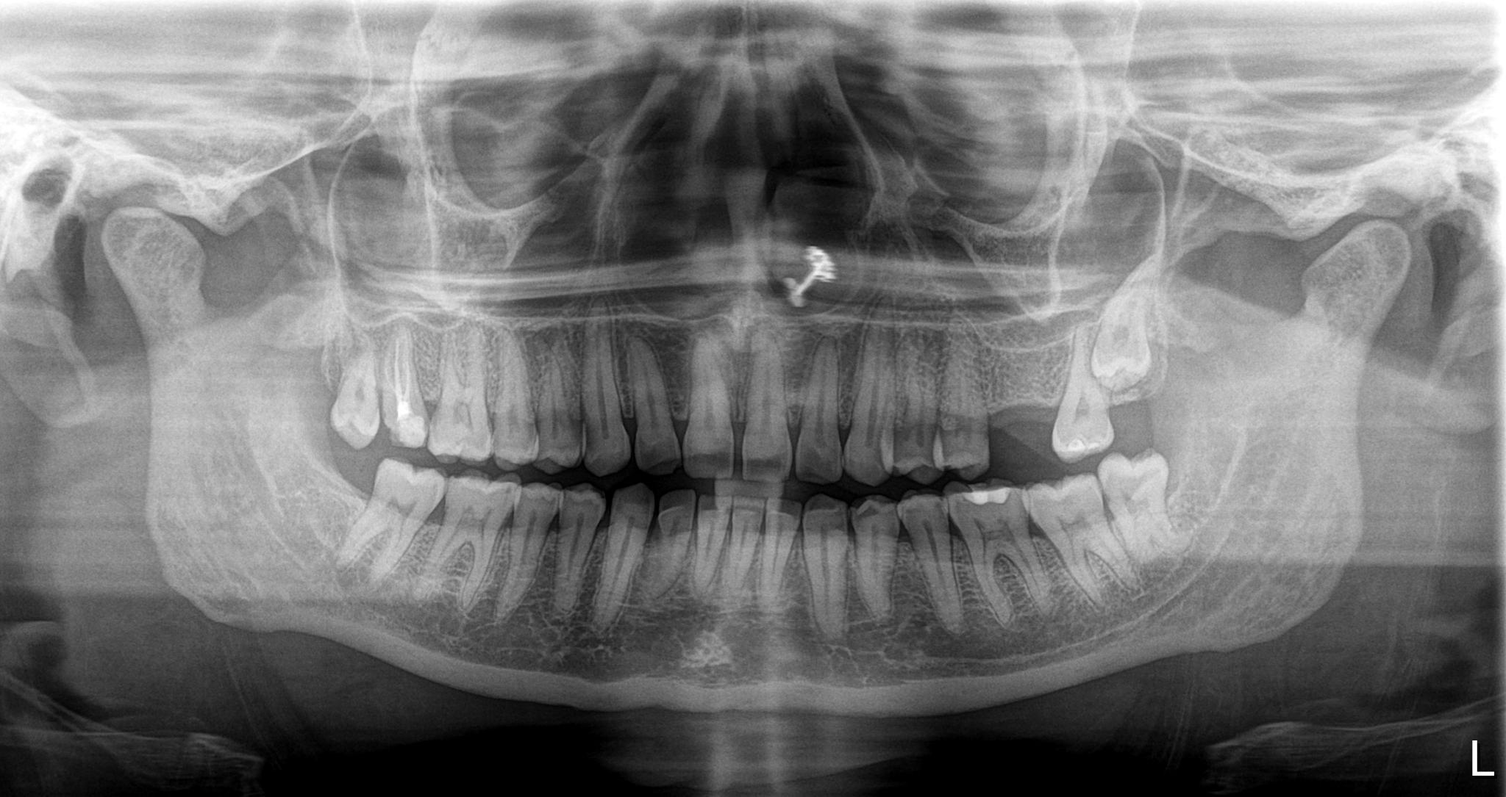Dental Caries: (526, 406, 586, 451), (862, 533, 891, 587)
Endodontically Treated Tooth: (379, 331, 435, 439), (950, 487, 1020, 526)
Impacted Third Molar: (1099, 463, 1223, 568), (1099, 272, 1193, 391)
Missing Tooth: (982, 318, 1060, 448), (324, 433, 386, 532)
